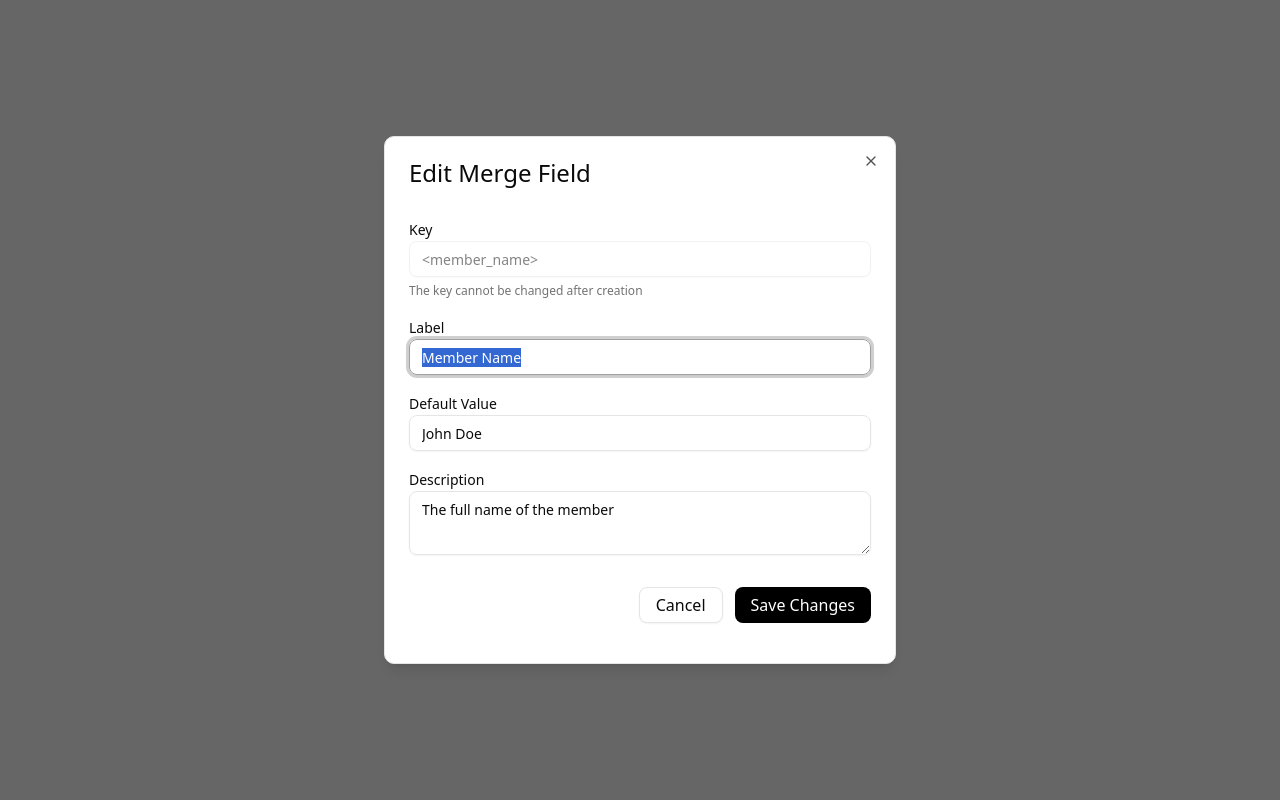
Scenario: EditMergeFieldModal › should disable cancel button while saving
Click the button "Save Changes": {"x": 803, "y": 605} [734,587,871,623]
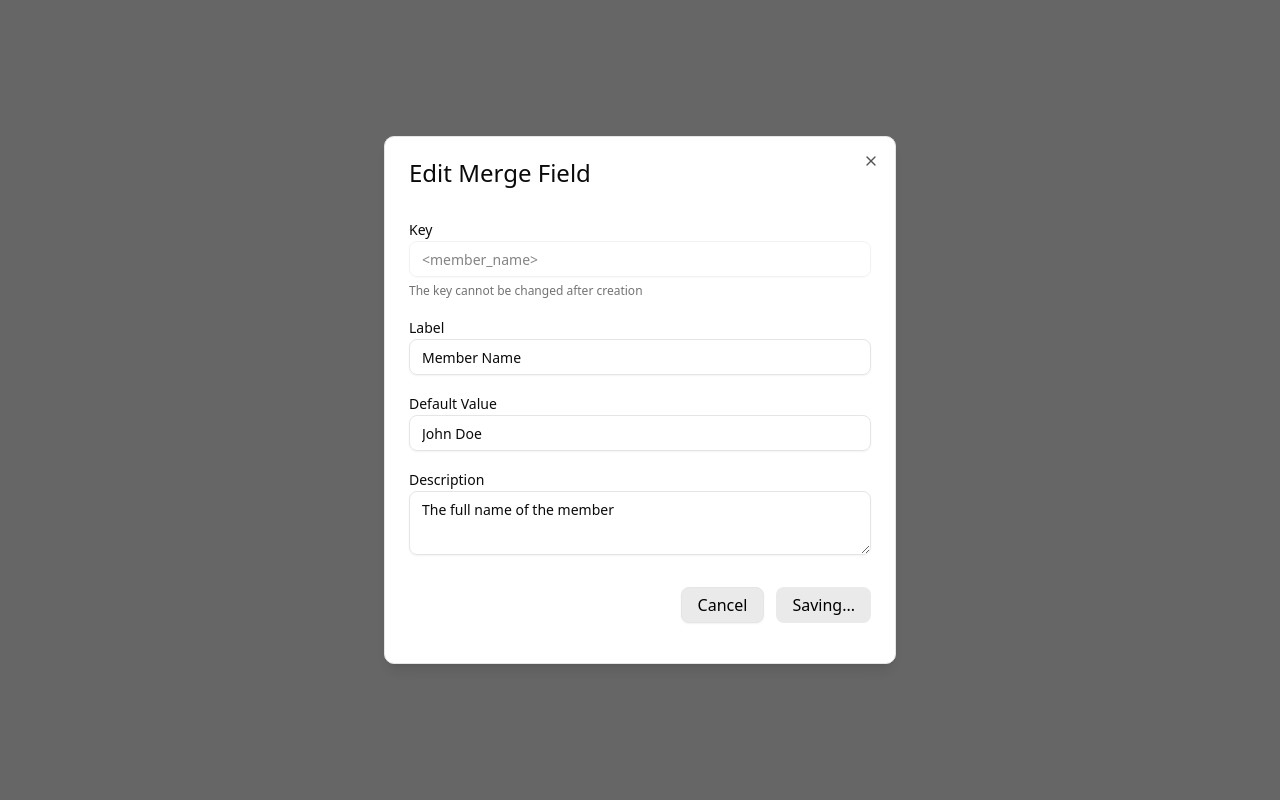
Result: the button "Cancel" is disabled at [681,587,764,623]
